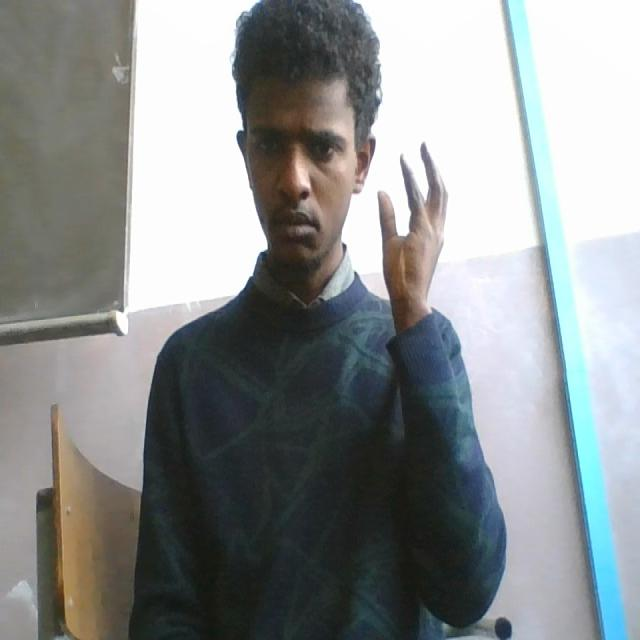menaded: (324, 139, 460, 326)
